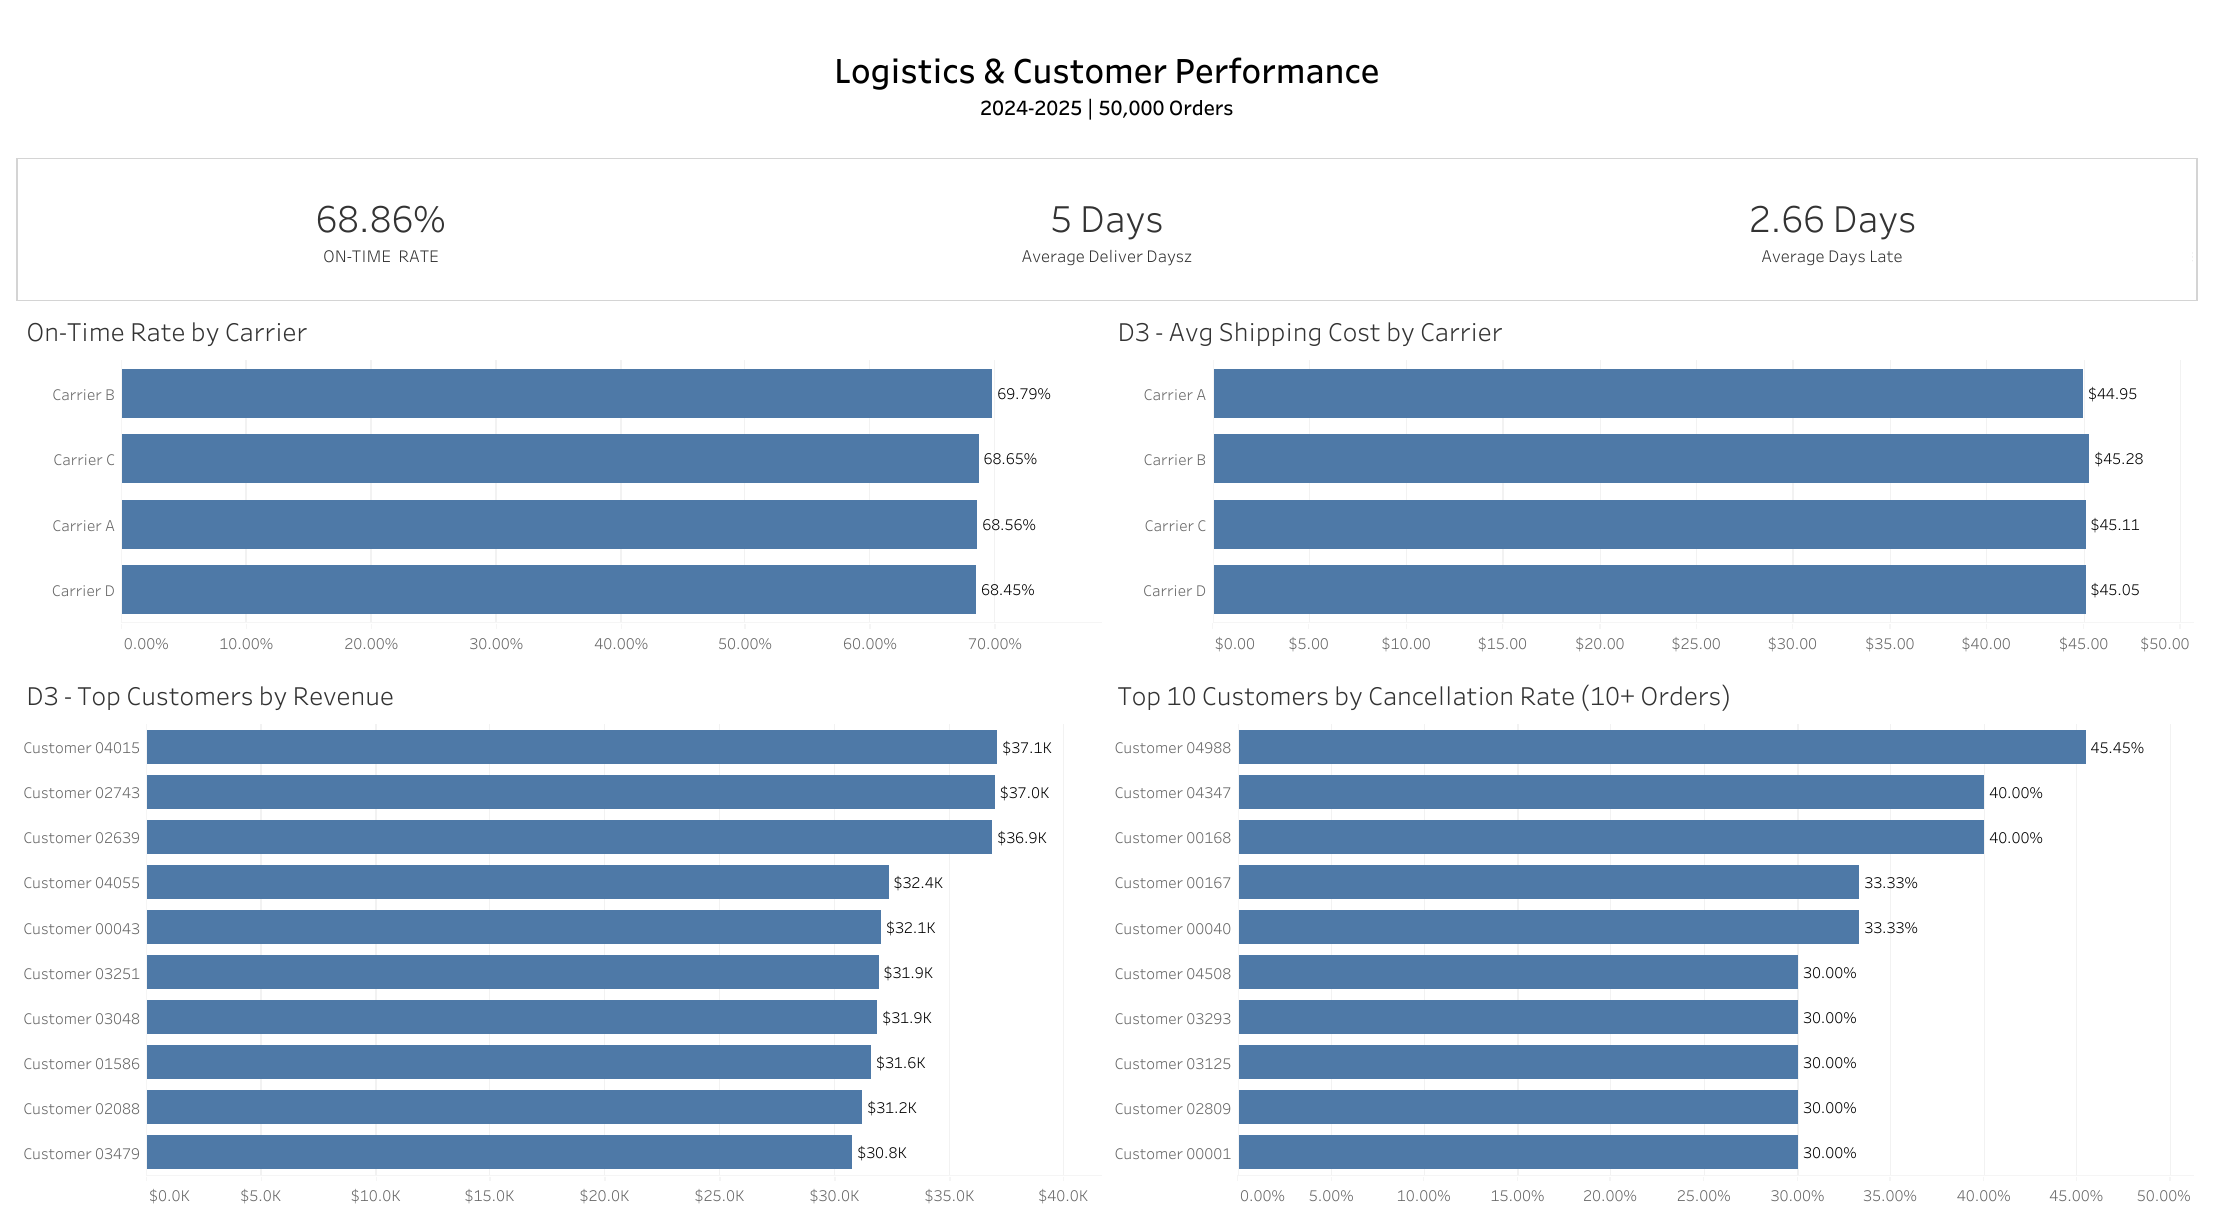

What the dashboard file says about the page in this screenshot:
{"tool":"tableau","page":{"name":"Logistics & Customer Performances","canvas":[1000,1000],"units":"permille","ordinal":2},"visuals":[{"type":"text","box":[7.6,5.9,984.8,88.4]},{"type":"worksheet","title":"D3 - On-Time Rate","mark":"Automatic","box":[8.6,95.1,327.9,83.3]},{"type":"worksheet","title":"D3 - KPI Avg Delivery Rate","mark":"Automatic","box":[336.5,95.1,327.9,83.3]},{"type":"worksheet","title":"D3 - KPI Avg Days Late","mark":"Automatic","box":[664.5,95.1,327,83.3]},{"type":"worksheet","title":"D3 - On-Time Rate by Carrier","mark":"Bar","rows":["carrier"],"cols":["Calculation_0754849383084043"],"box":[7.6,179.1,492.4,214.4]},{"type":"worksheet","title":"D3 - Avg Shipping Cost by Carrier","mark":"Automatic","rows":["carrier"],"cols":["shipment_cost"],"box":[500,179.1,492.4,214.4]},{"type":"worksheet","title":"D3 - Top Customers by Revenue","mark":"Automatic","rows":["customer_name"],"cols":["total_revenue"],"box":[7.6,393.5,492.4,372.9]},{"type":"worksheet","title":"D3 - Customer Cancellation Rate","mark":"Automatic","rows":["customer_name"],"cols":["cancellation_rate"],"box":[500,393.5,492.4,372.9]}]}

Visuals, with their boxes on the dashboard's canvas, which has no fixed pixel size, in thousandths of its width and height (x1, y1, x2, y2). These are canvas units, not pixel positions in the 2213x1224 screenshot, which may show the page scaled, cropped or inside an application window:
text: 8,6,992,94
"D3 - On-Time Rate" worksheet: 9,95,336,178
"D3 - KPI Avg Delivery Rate" worksheet: 336,95,664,178
"D3 - KPI Avg Days Late" worksheet: 664,95,992,178
"D3 - On-Time Rate by Carrier" worksheet (Bar marks): 8,179,500,394
"D3 - Avg Shipping Cost by Carrier" worksheet: 500,179,992,394
"D3 - Top Customers by Revenue" worksheet: 8,394,500,766
"D3 - Customer Cancellation Rate" worksheet: 500,394,992,766
